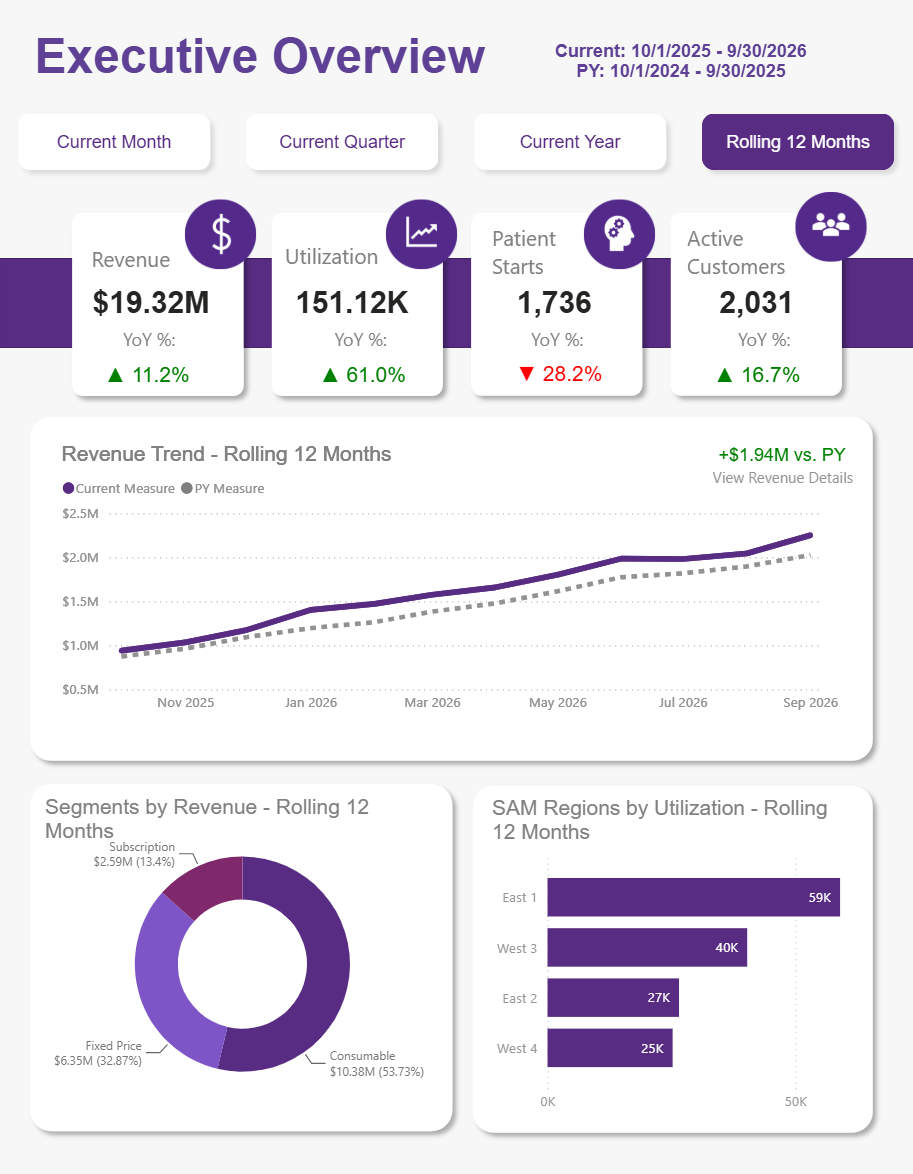

This screenshot's page, from the dashboard's own definition file:
{"tool":"powerbi","page":{"name":"Executive Summary","canvas":[816,1056],"ordinal":0},"visuals":[{"type":"shape","box":[56.5,187.8,170.9,181.3],"z":0,"group":"g2"},{"type":"group","id":"g1","title":"Group 3","box":[18.4,697.4,394,327],"z":0},{"type":"shape","box":[18.4,697.4,394,327],"z":0,"group":"g1"},{"type":"shape","box":[412.4,698.7,374.3,327],"z":0,"group":"g3"},{"type":"donutChart","fields":{"Category":["Daily Revenue.Account Segment"],"Y":["Daily Revenue.Current Daily Measure"]},"box":[36.1,715.4,361.5,288.5],"z":250,"group":"g1"},{"type":"donutChart","fields":{"Category":["Monthly Revenue.Account Segment"],"Y":["Monthly Revenue.KPI Revenue - Total Period"]},"box":[34.6,713.5,363.3,291.6],"z":500,"group":"g1"},{"type":"shape","box":[234.6,187.8,170.5,181.3],"z":1000,"group":"g2"},{"type":"shape","box":[0,237.7,815.6,80.1],"z":1000},{"type":"advancedSlicerVisual","fields":{"Values":["Period Selection.Period"]},"box":[0,91.9,815.6,84.1],"z":2000},{"type":"shape","box":[412.3,187.8,170.5,181],"z":2000,"group":"g2"},{"type":"shape","box":[590,187.8,170.5,181],"z":3000,"group":"g2"},{"type":"shape","box":[18.4,370.4,768.4,324.4],"z":3000},{"type":"card","fields":{"Values":["Monthly Revenue.KPI Revenue - Total Period"]},"box":[70.8,246,128.1,60],"z":3500,"group":"g2"},{"type":"card","fields":{"Values":["Monthly Utz.KPI - Utilization Period"]},"box":[250.7,246,128,60],"z":3750,"group":"g2"},{"type":"card","fields":{"Values":["Patient Starts.KPI - Starts Period"]},"box":[430.4,246,128,60],"z":3875,"group":"g2"},{"type":"card","fields":{"Values":["Active Customers Monthly.KPI - Active Customers Period"]},"box":[610.1,246,128,60],"z":3937,"group":"g2"},{"type":"group","id":"g2","title":"Group 1","box":[56.5,187.8,704,181.3],"z":4000},{"type":"textbox","box":[78.2,219.6,88,40.7],"z":4000,"group":"g2"},{"type":"textbox","box":[249.8,217,98.7,36],"z":5000,"group":"g2"},{"type":"group","id":"g3","title":"Group 3","box":[412.4,698.7,374.3,327],"z":5000},{"type":"image","box":[134,179.9,127.4,72.2],"z":6000},{"type":"textbox","box":[434.1,201.2,90.6,78.8],"z":6000,"group":"g2"},{"type":"image","box":[312.6,179.9,127.4,72.2],"z":7000},{"type":"barChart","fields":{"Category":["Monthly Utz.Region"],"Y":["Monthly Utz.KPI - Utilization Period"]},"box":[433.4,717.7,333.7,289],"z":7000,"group":"g3"},{"type":"image","box":[488.6,179.9,127.4,72.2],"z":8000},{"type":"image","box":[677.7,173.4,127.4,72.2],"z":9000},{"type":"lineChart","fields":{"Category":["DimDate.DayOfMonth"],"Y":["Daily Revenue.Current Daily Measure","Daily Revenue.PY Daily Measure"]},"box":[53.9,400.6,701.4,249.6],"z":10000},{"type":"lineChart","fields":{"Category":["Monthly Revenue.MM/YYYY"],"Y":["Monthly Revenue.Current Measure","Monthly Revenue.PY Measure"]},"box":[51.3,402.6,701.4,249.6],"z":11000},{"type":"card","fields":{"Values":["Measure Table.Selected Period Date Range"]},"box":[478.2,28.2,257.4,68.3],"z":12000},{"type":"textbox","box":[105.9,293.2,59.2,47.7],"z":12000,"group":"g2"},{"type":"textbox","box":[294,293.2,59.2,47.7],"z":13000,"group":"g2"},{"type":"card","fields":{"Values":["Patient Starts.Starts - Total YoY Display"]},"box":[429.5,320.8,137,42],"z":13000},{"type":"textbox","box":[26.9,28.2,446.1,73.5],"z":14000},{"type":"textbox","box":[469.3,293.2,59.2,47.7],"z":14000,"group":"g2"},{"type":"textbox","box":[653.5,293.2,60.9,47.7],"z":15000,"group":"g2"},{"type":"lineChart","fields":{"Category":["Monthly Revenue.MM/YYYY"],"Y":["Monthly Revenue.Current Measure","Monthly Revenue.PY Measure"]},"box":[51.3,402.6,701.4,249.6],"z":15000},{"type":"card","fields":{"Values":["Monthly Revenue.Revenue Variance Formatted"]},"box":[628.2,400,138.5,29.5],"z":16000},{"type":"actionButton","title":"See Details","box":[620.5,419.2,153.8,20.5],"z":16001},{"type":"textbox","box":[607.5,201.2,140.5,65.7],"z":19500,"group":"g2"},{"type":"card","fields":{"Values":["Monthly Revenue.Revenue - Total YoY Display"]},"box":[63.6,320.8,137.9,42],"z":20000,"group":"g2"},{"type":"card","fields":{"Values":["Monthly Utz.Utz - Total YoY Display"]},"box":[255.1,320.8,137,42],"z":20500,"group":"g2"},{"type":"card","fields":{"Values":["Active Customers Monthly.Active Customers - Total YoY Display"]},"box":[606.2,320.8,137,42],"z":21500,"group":"g2"}]}

Visuals, with their boxes in screenshot pixels (x1, y1, x2, y2), scaled from the page's 816x1056 canvas onto the 913x1174 screenshot:
shape: 63,209,254,410
"Group 3" group: 21,775,461,1139
shape: 21,775,461,1139
shape: 461,777,880,1140
donutChart - Daily Revenue.Account Segment x Daily Revenue.Current Daily Measure: 40,795,445,1116
donutChart - Monthly Revenue.Account Segment x Monthly Revenue.KPI Revenue - Total Period: 39,793,445,1117
shape: 262,209,453,410
shape: 0,264,912,353
advancedSlicerVisual - Period Selection.Period: 0,102,912,196
shape: 461,209,652,410
shape: 660,209,851,410
shape: 21,412,880,772
card - Monthly Revenue.KPI Revenue - Total Period: 79,273,223,340
card - Monthly Utz.KPI - Utilization Period: 281,273,424,340
card - Patient Starts.KPI - Starts Period: 482,273,625,340
card - Active Customers Monthly.KPI - Active Customers Period: 683,273,826,340
"Group 1" group: 63,209,851,410
textbox: 87,244,186,289
textbox: 279,241,390,281
"Group 3" group: 461,777,880,1140
image: 150,200,292,280
textbox: 486,224,587,311
image: 350,200,492,280
barChart - Monthly Utz.Region x Monthly Utz.KPI - Utilization Period: 485,798,858,1119
image: 547,200,689,280
image: 758,193,901,273
lineChart - DimDate.DayOfMonth x Daily Revenue.Current Daily Measure: 60,445,845,723
lineChart - Monthly Revenue.MM/YYYY x Monthly Revenue.Current Measure: 57,448,842,725
card - Measure Table.Selected Period Date Range: 535,31,823,107
textbox: 118,326,185,379
textbox: 329,326,395,379
card - Patient Starts.Starts - Total YoY Display: 481,357,634,403
textbox: 30,31,529,113
textbox: 525,326,591,379
textbox: 731,326,799,379
lineChart - Monthly Revenue.MM/YYYY x Monthly Revenue.Current Measure: 57,448,842,725
card - Monthly Revenue.Revenue Variance Formatted: 703,445,858,477
"See Details" actionButton: 694,466,866,489
textbox: 680,224,837,297
card - Monthly Revenue.Revenue - Total YoY Display: 71,357,225,403
card - Monthly Utz.Utz - Total YoY Display: 285,357,439,403
card - Active Customers Monthly.Active Customers - Total YoY Display: 678,357,832,403
